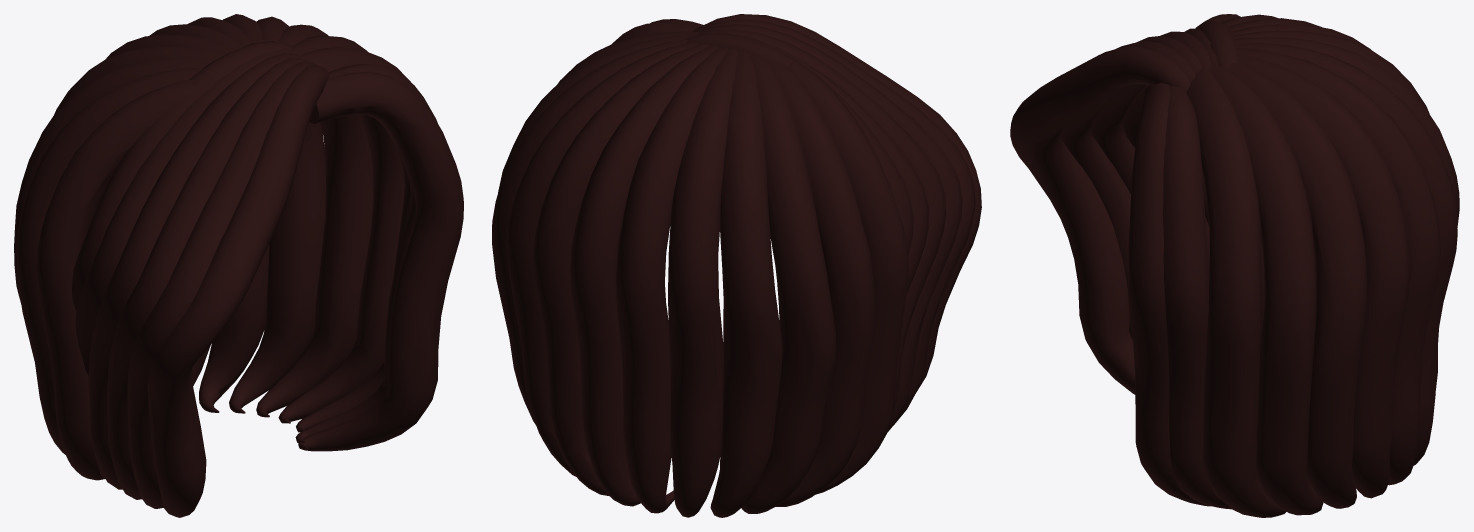
The model's file is hair-10-8a7dc3ea.glb.
The picture shows the model from 3 angles, left to right: view 1: azimuth 30°, elevation 25°; view 2: azimuth 150°, elevation 25°; view 3: azimuth 270°, elevation 25°; orthographic projection. The views are drawn at different scales.
Parts seen in each view (by area): view 1: hair_10.001; view 2: hair_10.001; view 3: hair_10.001.
Boxes of the visible parts, x1,y1,x2,y2 form: hair_10.001: (14, 14, 463, 517); hair_10.001: (492, 14, 981, 517); hair_10.001: (1010, 14, 1459, 517).
Bounding box in the file's own units: 2.27 × 2.31 × 2.19.
